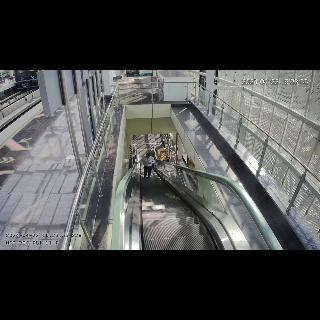normal: (138, 153, 156, 179)
